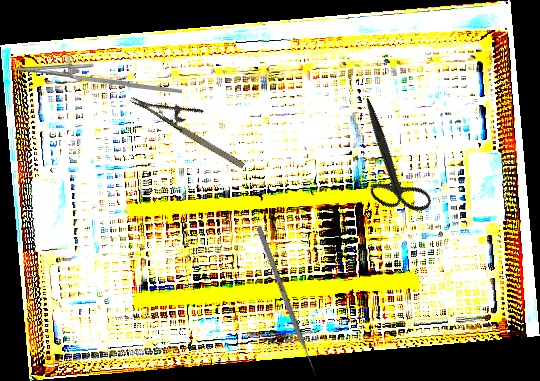Iris Scissors: (321, 98, 459, 228)
Needle Holder: (128, 73, 258, 173), (15, 53, 183, 95)
Pusher: (255, 226, 319, 378)
